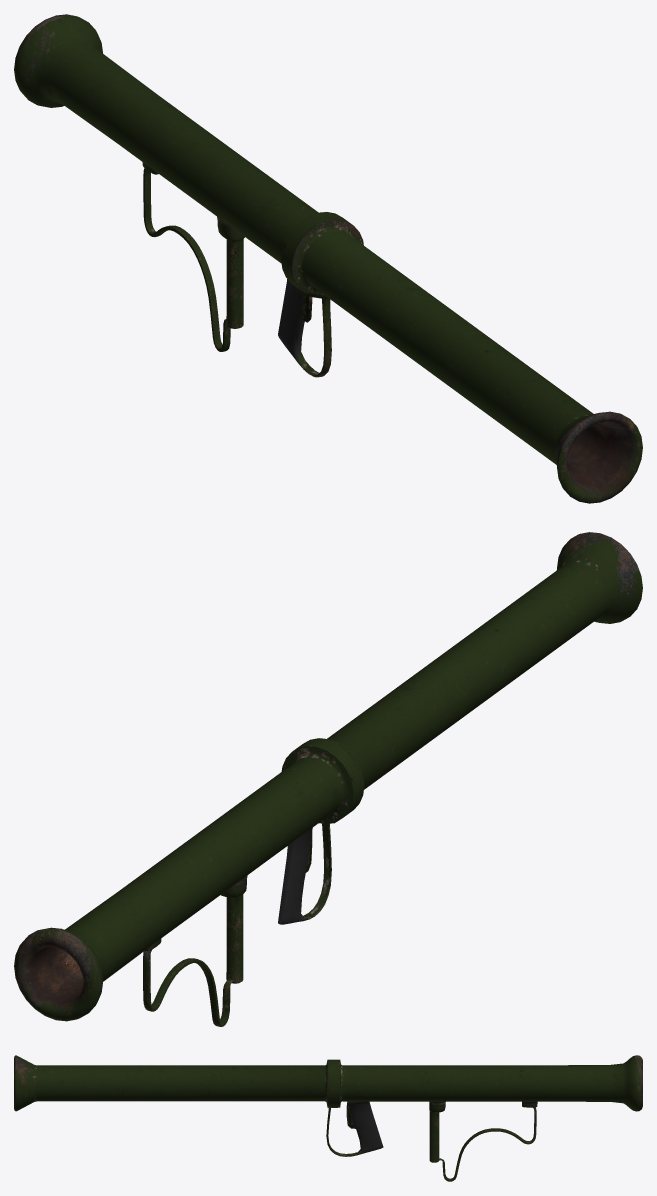
File: bazooka.glb
3 views of the same model, one above another, from view 1: azimuth 30°, elevation 25°; view 2: azimuth 150°, elevation 25°; view 3: azimuth 270°, elevation 25° (orthographic). The views are drawn at different scales.
Parts seen in each view (by area): view 1: Object_2; view 2: Object_2; view 3: Object_2.
Part boxes in pixels (box(x1,y1,x2,y2)): Object_2: box(14, 14, 642, 503); Object_2: box(14, 532, 642, 1026); Object_2: box(14, 1055, 642, 1181).
Bounding box in the file's own units: 0.1093 × 0.2631 × 1.22.
Materials: 1 (1 with a texture image).
